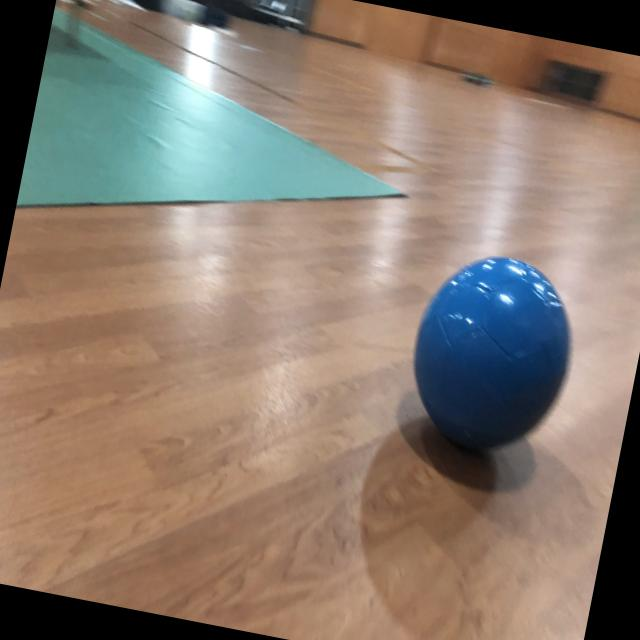blue_ball: (400, 225, 588, 475)
